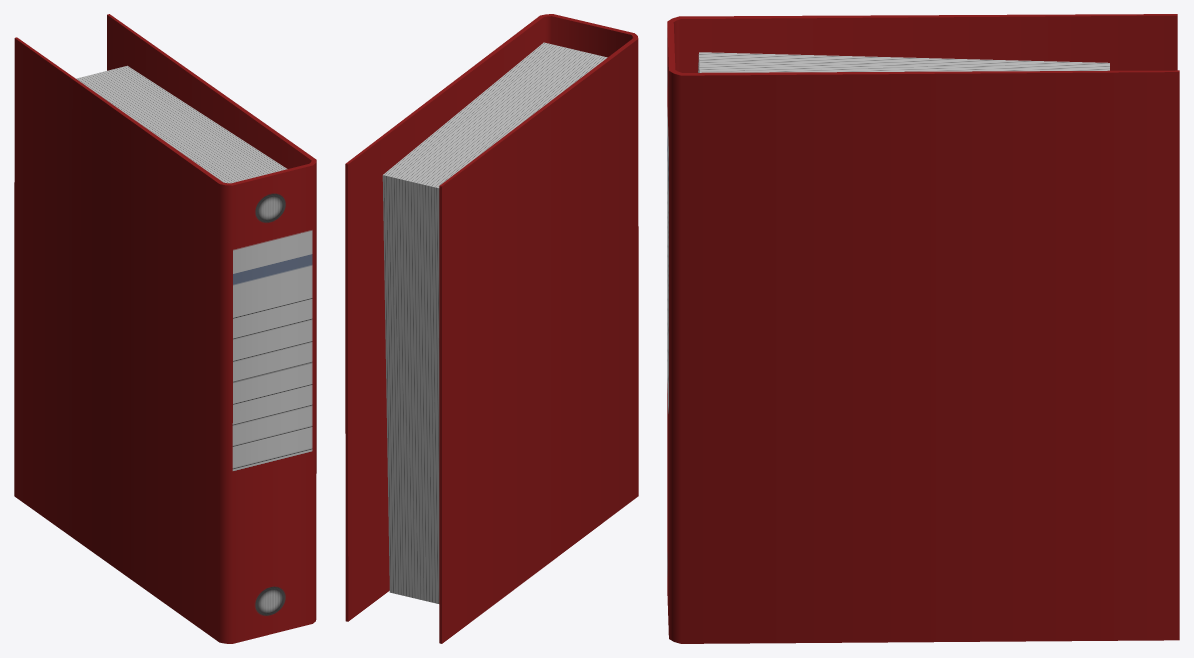
Rendered from Office file binder_005.FBX.
3 views of the same model, side by side, from view 1: azimuth 30°, elevation 25°; view 2: azimuth 150°, elevation 25°; view 3: azimuth 270°, elevation 25° (orthographic). The views are drawn at different scales.
Visible parts, largest first — view 1: Office file binder_005; view 2: Office file binder_005; view 3: Office file binder_005.
Part boxes in pixels (bbox=[...]): Office file binder_005: bbox=[14, 14, 316, 643]; Office file binder_005: bbox=[345, 14, 638, 643]; Office file binder_005: bbox=[667, 14, 1179, 643].
Bounding box in the file's own units: 0.0746 × 0.3203 × 0.2617.
